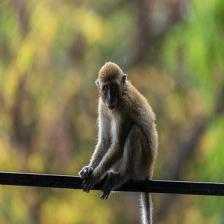monkey: (83, 53, 168, 197)
